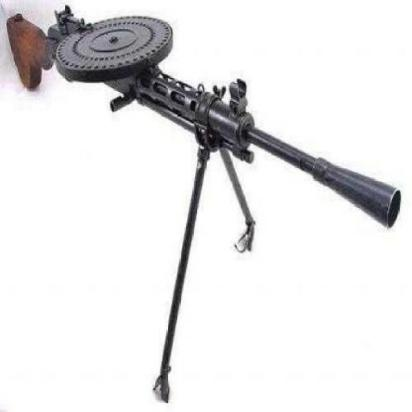Gun: (7, 2, 405, 243)
